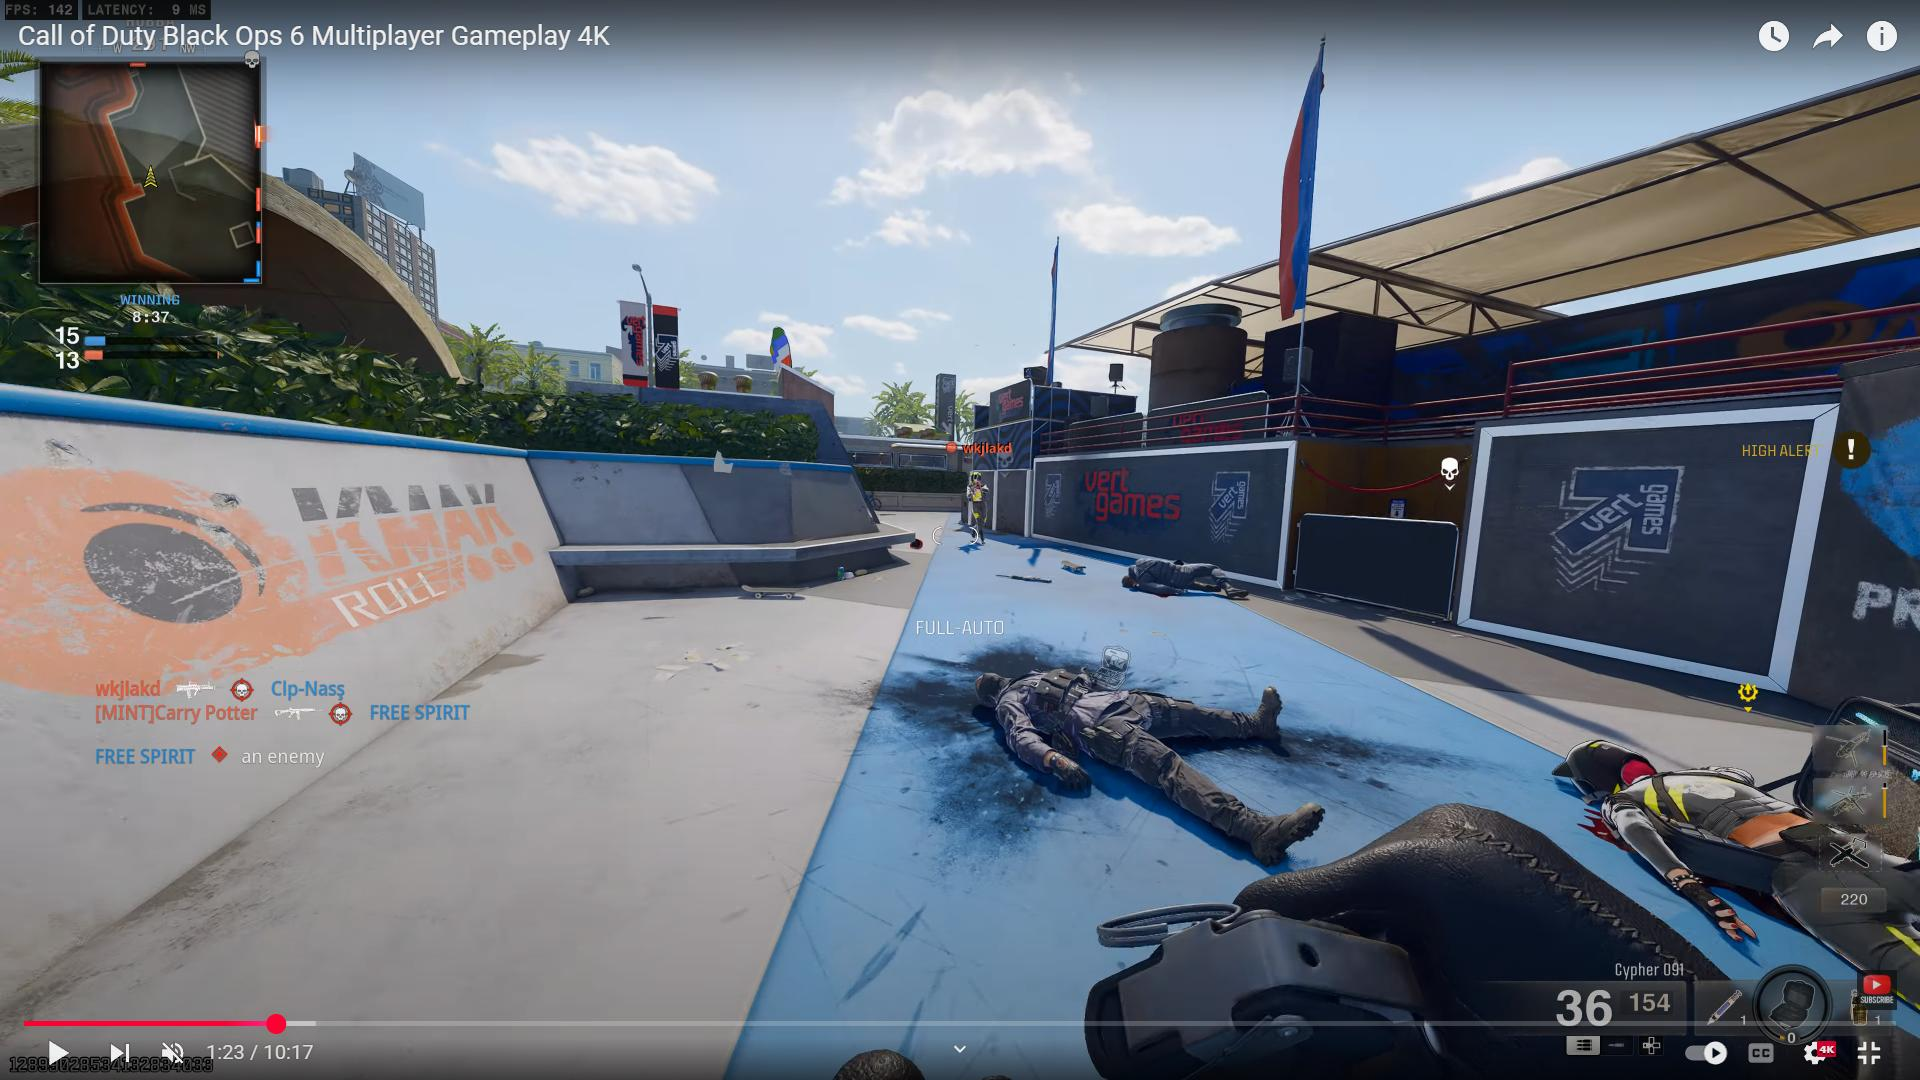Enemy: (959, 468, 993, 538)
